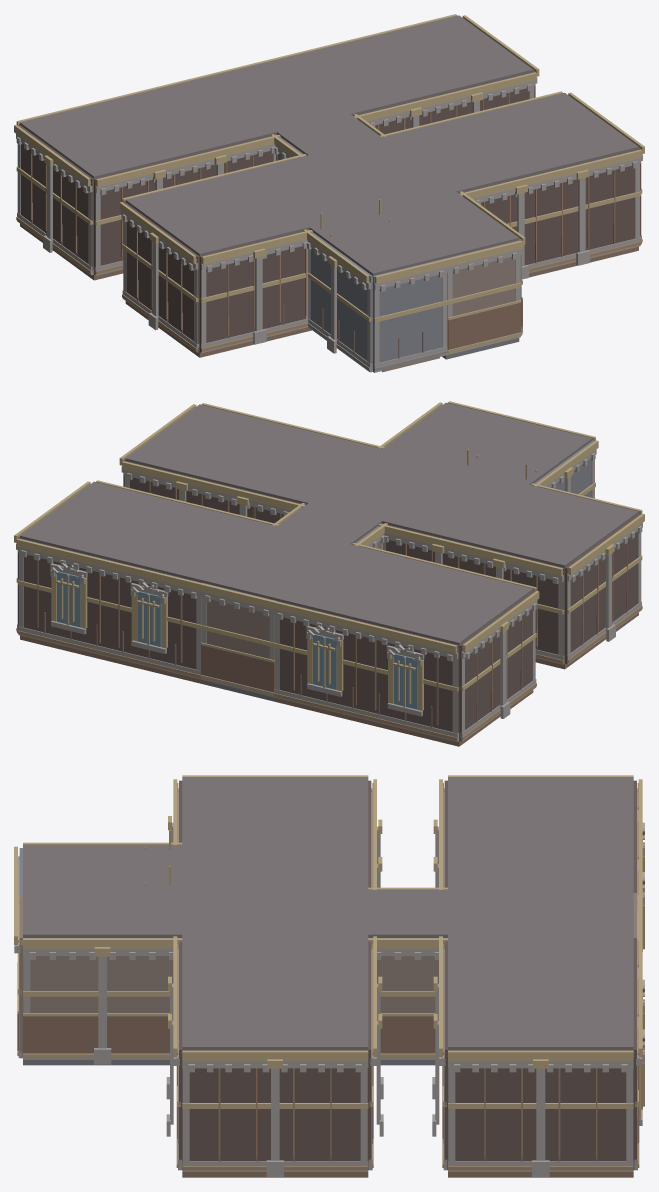
Rendered from floor_03.glb.
The picture shows the model from 3 angles, top to bottom: view 1: azimuth 30°, elevation 25°; view 2: azimuth 150°, elevation 25°; view 3: azimuth 270°, elevation 25°; orthographic projection. The views are drawn at different scales.
Visible parts, largest first — view 1: fe-f3-hall-ceiling, fe-f3-room1-ceiling, fe-f3-room2-ceiling, fe-f3-room4-ceiling, fe-f3-room3-ceiling, fe-f3-room4-top-end, fe-f3-room3-top-end, fe-f3-regular-ceiling, fe-f3-regular-top-end, fe-f3-room3-left-end, fe-f3-room1-left-end, fe-f3-regular-left-end (+28 smaller); view 2: fe-f3-hall-ceiling, fe-f3-room1-ceiling, fe-f3-room3-ceiling, fe-f3-room2-ceiling, fe-f3-room4-ceiling, fe-f3-regular-ceiling, fe-f3-room1-left-end, fe-f3-room3-left-end, fe-f3-room3-bottom-end, fe-f3-room2-bottom-1-solid, fe-f3-room1-bottom-1-solid, fe-f3-hall-bottom-end (+33 smaller); view 3: fe-f3-hall-ceiling, fe-f3-room4-ceiling, fe-f3-room2-ceiling, fe-f3-room3-ceiling, fe-f3-room1-ceiling, fe-f3-room4-right-end, fe-f3-room2-right-end, fe-f3-regular-ceiling, fe-f3-hall-right-end, fe-f3-hall-right-finish-end-lower, fe-f3-hall-right-1-solid, fe-f3-hall-right-finish-1-solid-lower (+31 smaller).
Part boxes in pixels (left/top/right/bottom): fe-f3-hall-ceiling: left=203, top=60, right=519, bottom=257; fe-f3-room1-ceiling: left=20, top=78, right=276, bottom=178; fe-f3-room2-ceiling: left=276, top=15, right=533, bottom=115; fe-f3-room4-ceiling: left=382, top=92, right=638, bottom=193; fe-f3-room3-ceiling: left=125, top=155, right=381, bottom=256; fe-f3-room4-top-end: left=459, top=149, right=639, bottom=265; fe-f3-room3-top-end: left=199, top=231, right=305, bottom=352; fe-f3-regular-ceiling: left=309, top=209, right=445, bottom=275; fe-f3-regular-top-end: left=373, top=258, right=446, bottom=372; fe-f3-room3-left-end: left=124, top=202, right=199, bottom=352; fe-f3-room1-left-end: left=18, top=125, right=93, bottom=275; fe-f3-regular-left-end: left=307, top=229, right=372, bottom=372; fe-f3-hall-ceiling: left=203, top=402, right=518, bottom=600; fe-f3-room1-ceiling: left=276, top=544, right=533, bottom=645; fe-f3-room3-ceiling: left=382, top=467, right=638, bottom=567; fe-f3-room2-ceiling: left=20, top=481, right=276, bottom=582; fe-f3-room4-ceiling: left=125, top=404, right=381, bottom=504; fe-f3-regular-ceiling: left=456, top=420, right=592, bottom=484; fe-f3-room1-left-end: left=459, top=591, right=534, bottom=741; fe-f3-room3-left-end: left=565, top=514, right=640, bottom=664; fe-f3-room3-bottom-end: left=381, top=523, right=564, bottom=664; fe-f3-room2-bottom-1-solid: left=81, top=553, right=139, bottom=655; fe-f3-room1-bottom-1-solid: left=338, top=616, right=395, bottom=717; fe-f3-hall-bottom-end: left=201, top=583, right=275, bottom=688; fe-f3-hall-ceiling: left=23, top=890, right=633, bottom=937; fe-f3-room4-ceiling: left=182, top=934, right=368, bottom=1049; fe-f3-room2-ceiling: left=448, top=934, right=633, bottom=1049; fe-f3-room3-ceiling: left=182, top=777, right=368, bottom=889; fe-f3-room1-ceiling: left=448, top=777, right=633, bottom=889; fe-f3-room4-right-end: left=182, top=1050, right=368, bottom=1160; fe-f3-room2-right-end: left=448, top=1050, right=633, bottom=1160; fe-f3-regular-ceiling: left=23, top=845, right=182, bottom=889; fe-f3-hall-right-end: left=23, top=938, right=181, bottom=1012; fe-f3-hall-right-finish-end-lower: left=23, top=1016, right=169, bottom=1053; fe-f3-hall-right-1-solid: left=368, top=938, right=447, bottom=1012; fe-f3-hall-right-finish-1-solid-lower: left=380, top=1016, right=435, bottom=1053.
Size of the model in its own units: 15.34 by 3.79 by 14.48.
